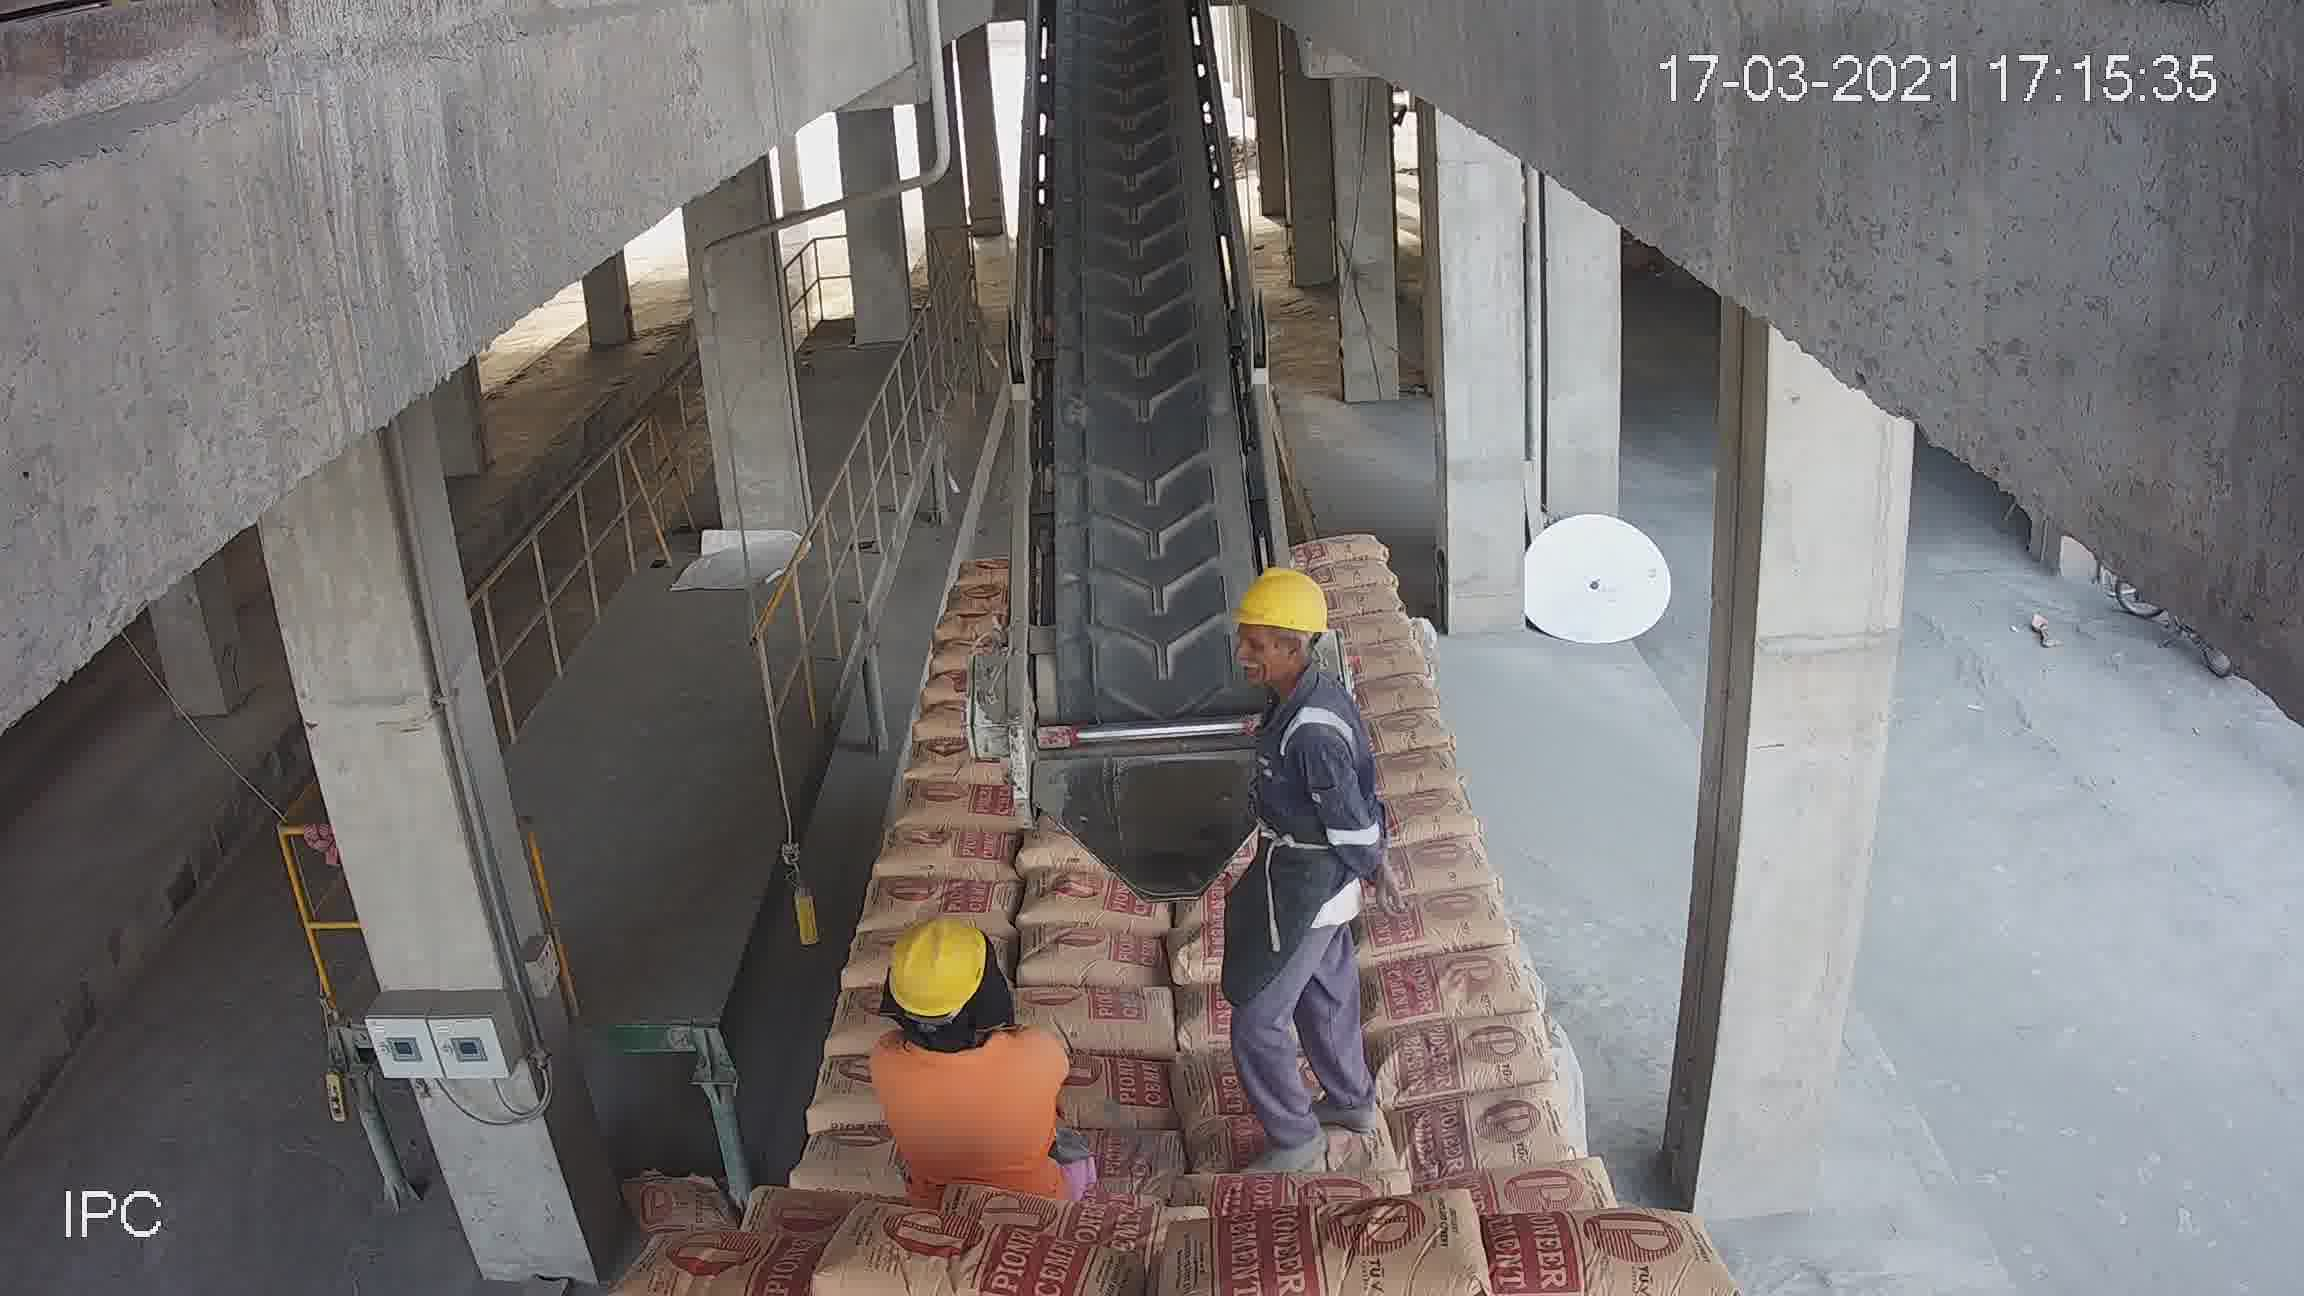bag_h: (1192, 1201, 1533, 1294), (804, 1218, 1119, 1294), (1443, 1201, 1703, 1291), (1415, 1079, 1600, 1174), (1374, 1014, 1554, 1108), (1355, 948, 1537, 1036), (1355, 885, 1513, 968), (1017, 915, 1168, 1002), (646, 1230, 843, 1294), (1180, 1173, 1412, 1222), (1435, 1161, 1606, 1223), (1044, 991, 1195, 1057), (858, 869, 1027, 926), (866, 828, 1022, 888), (1052, 1052, 1184, 1119), (902, 779, 1021, 839), (1291, 532, 1396, 573), (1301, 555, 1404, 597), (1317, 584, 1412, 623)
belt: (1021, 81, 1271, 782)
